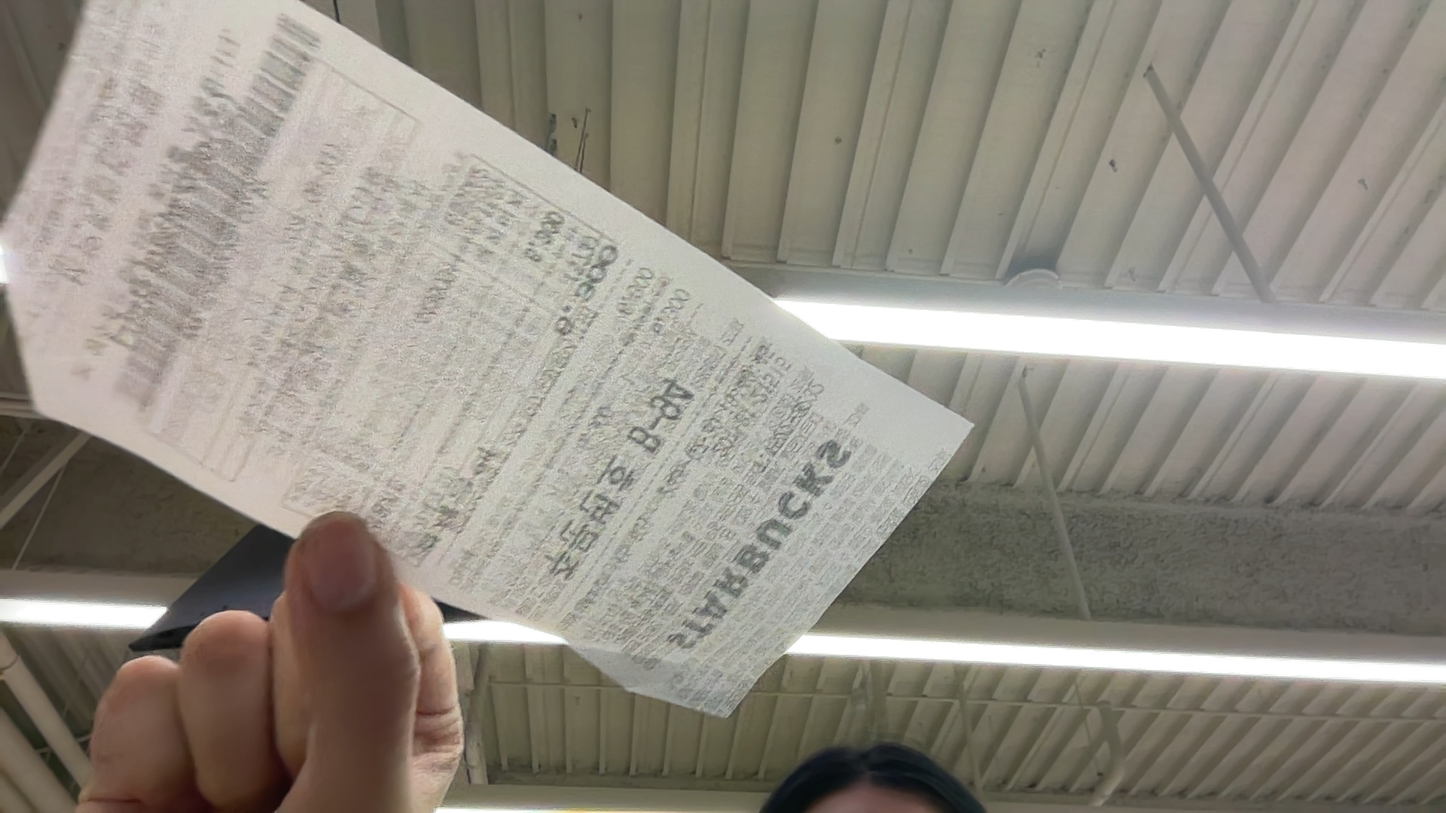Paper: (262, 502, 449, 813)
